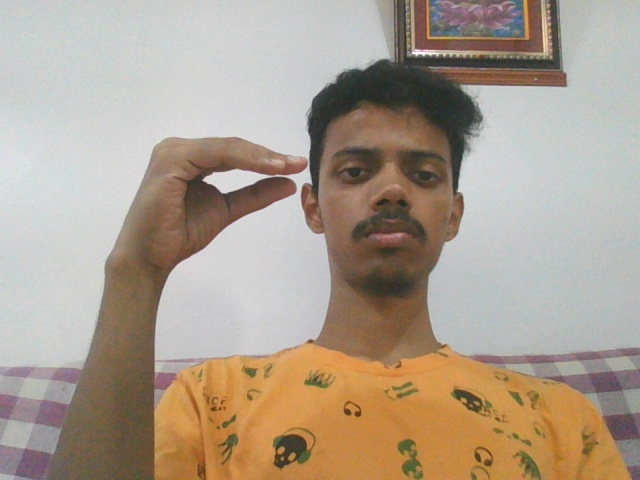No: (109, 136, 308, 261)
